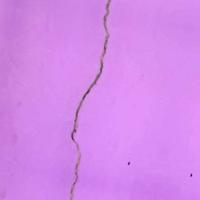crack: (60, 0, 125, 199)
